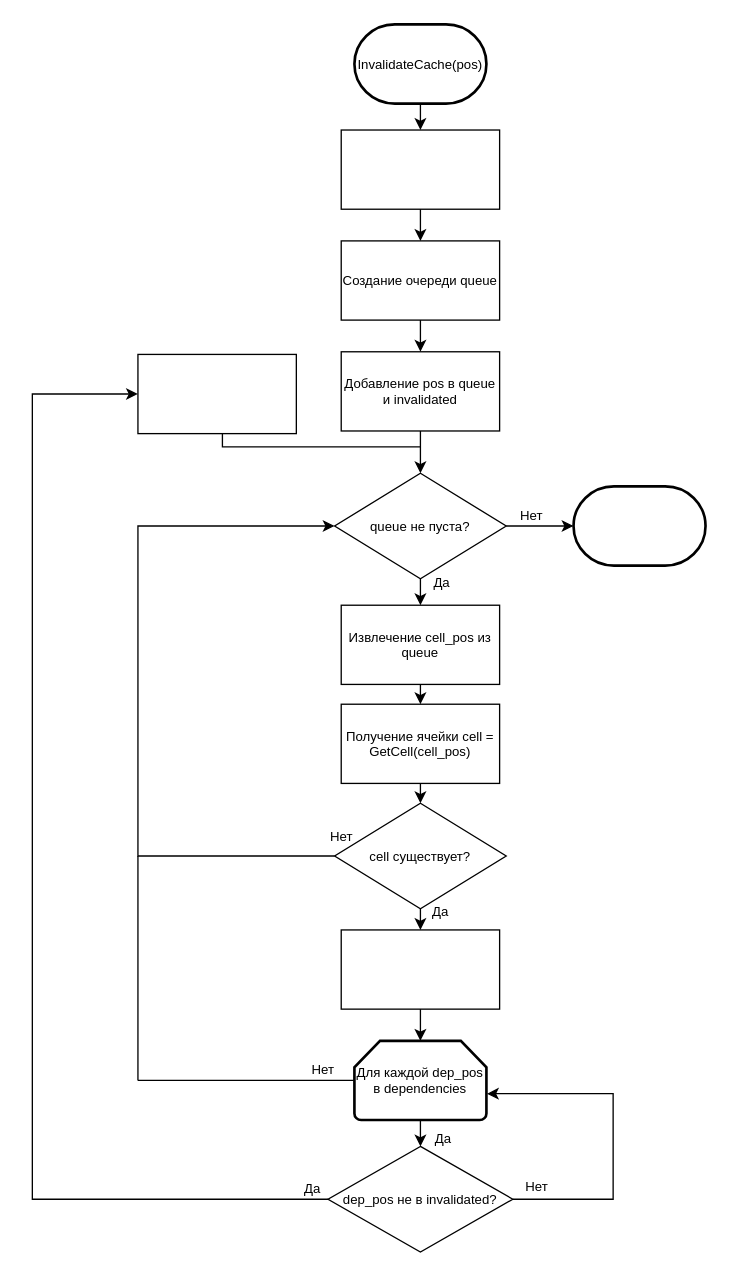
Image size: 730x1275. Some labels were removed from this diagram. Here are the shapes that lost their labels. From the top down, the box of each, then its label:
(340, 129, 500, 209): Создание множества invalidated
(137, 353, 296, 434): Добавление dep_pos в queue и invalidated
(572, 484, 706, 566): Конец, выход из цикла
(340, 929, 500, 1009): cell->cache_valid_ = false
